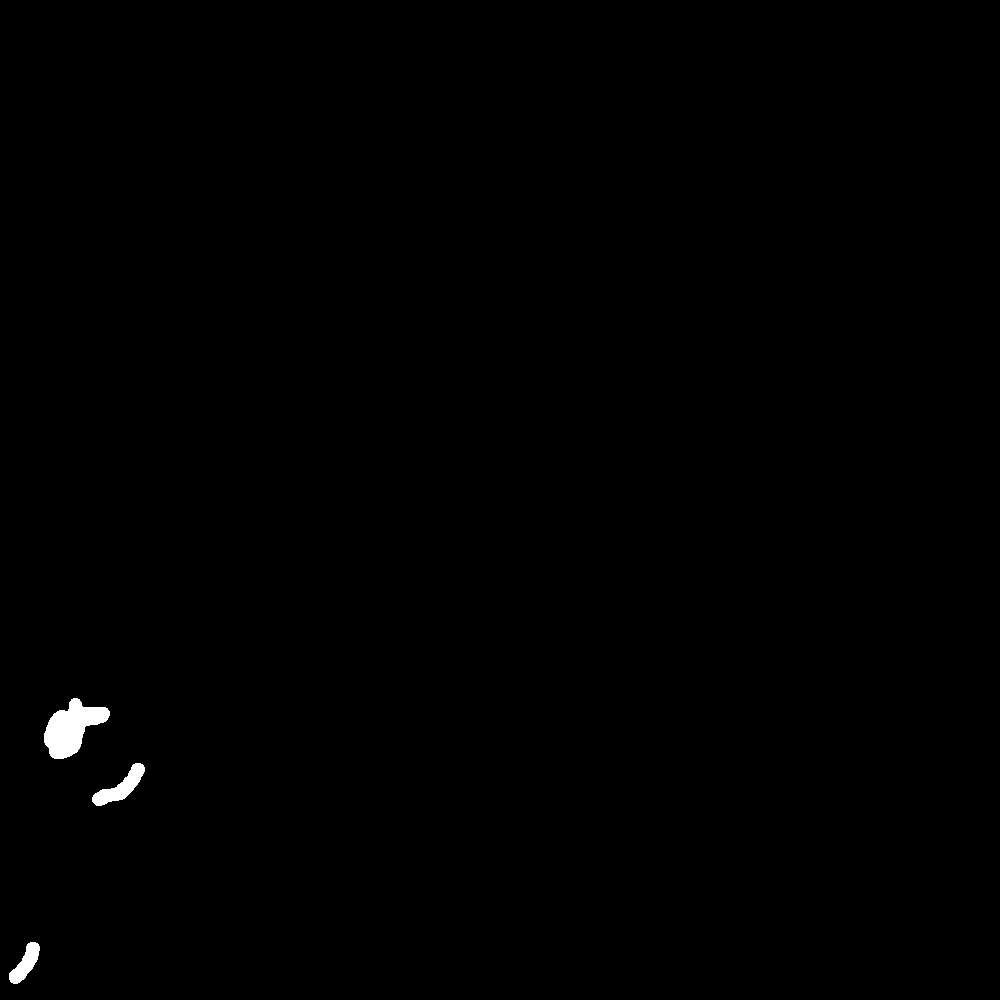illegal: (669, 483, 773, 559)
